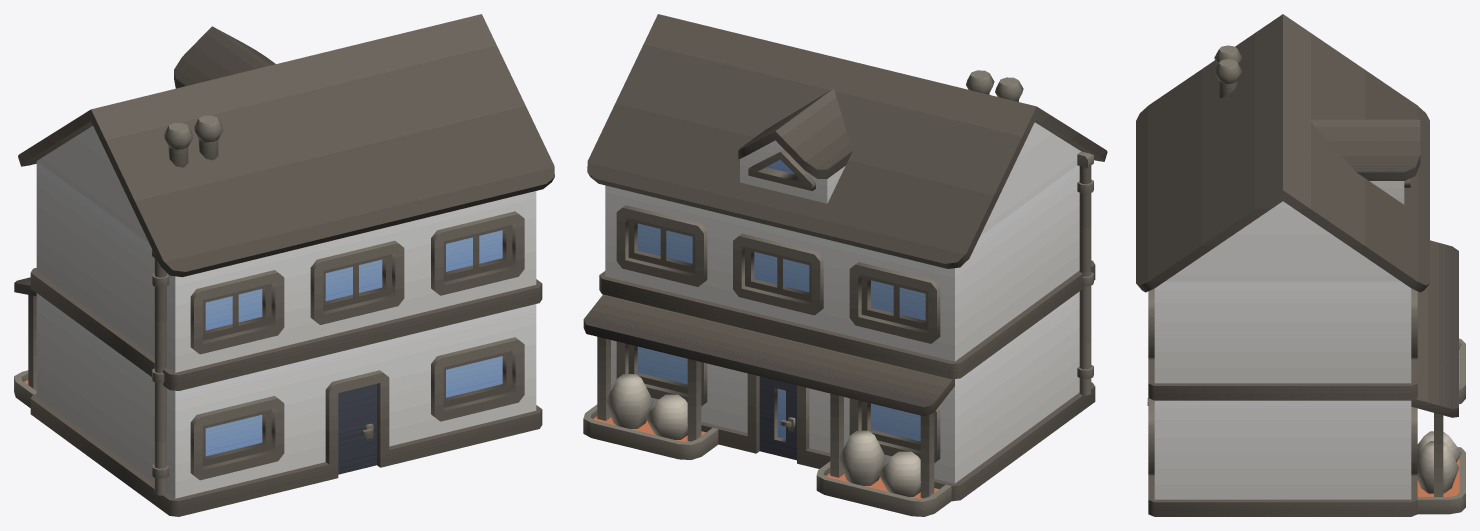
Rendered from sub-building-type-e.glb.
3 renders of one model, left to right at view 1: azimuth 30°, elevation 25°; view 2: azimuth 150°, elevation 25°; view 3: azimuth 270°, elevation 25°, orthographic. The views are drawn at different scales.
Visible parts, largest first — view 1: building-type-e; view 2: building-type-e; view 3: building-type-e.
Boxes of the visible parts, x1,y1,x2,y2 form: building-type-e: (14, 14, 554, 516); building-type-e: (583, 14, 1107, 516); building-type-e: (1136, 14, 1465, 516).
Bounding box in the file's own units: 1.3 × 1.14 × 1.03.
Materials: 1 (1 with a texture image).
